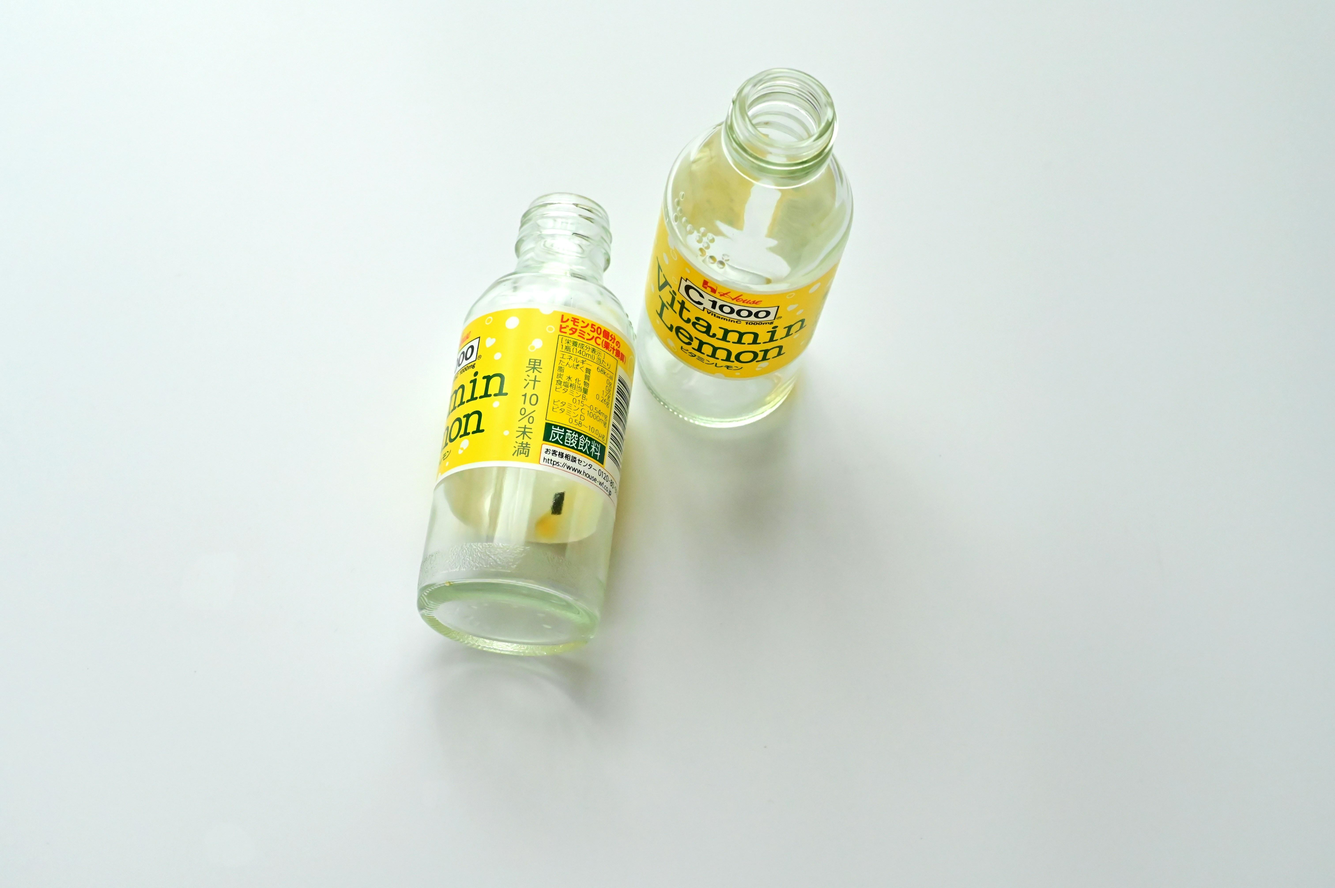Bottle-Detection: (393, 154, 653, 700), (640, 38, 876, 479)
